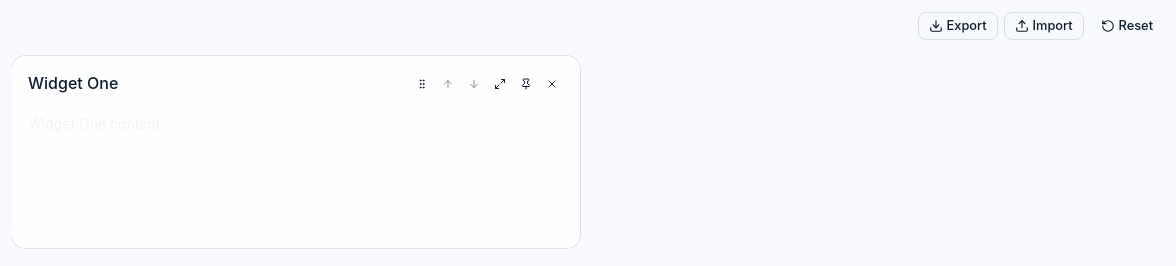
it: DashboardGrid › Remove hides the widget and it reappears via Add widget
Click the button named "Remove".
click(552, 84)  # box [540,72,564,96]
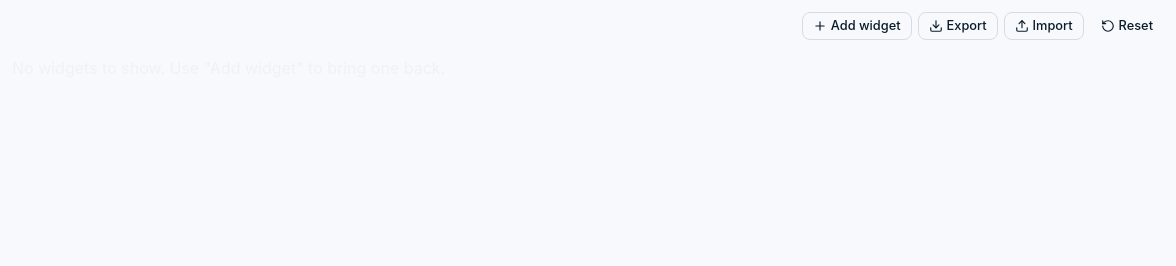
Result: the text "Widget One" is gone
Click the button "Add widget".
click(857, 26)  # box [802,12,912,40]
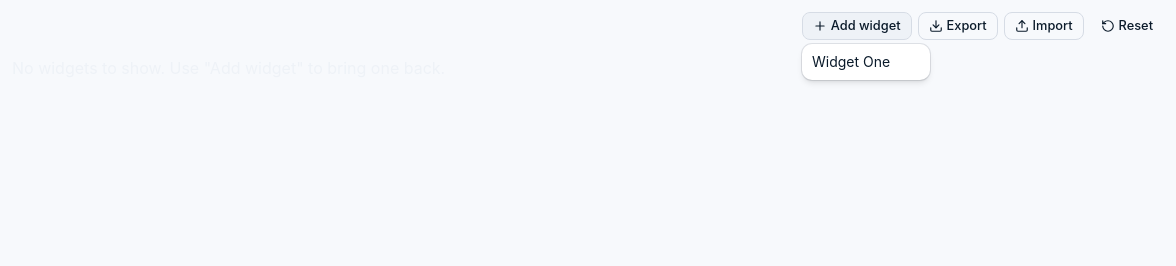
Click the menu item "Widget One".
click(851, 62)  # box [812,53,890,70]
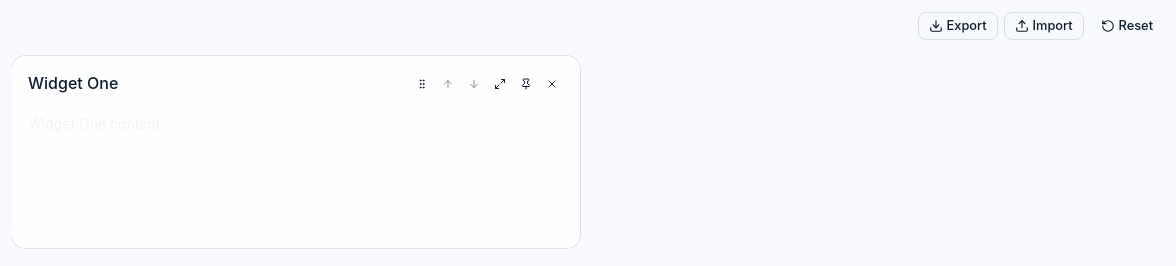
Result: the element "Widget One" is shown at [12,56,580,248]
